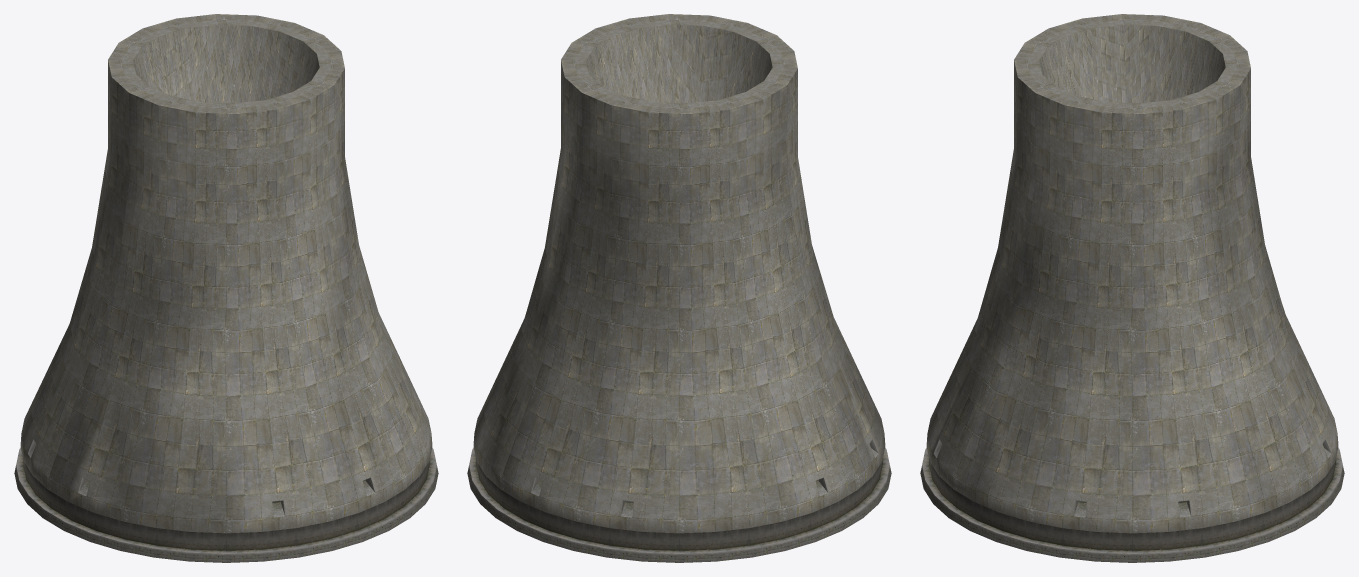
File: Building_FdcYc1.glb
3 views of the same model, side by side, from view 1: azimuth 30°, elevation 25°; view 2: azimuth 150°, elevation 25°; view 3: azimuth 270°, elevation 25° (orthographic).
Visible parts, largest first — view 1: xiutz_fdc_yc1_0; view 2: xiutz_fdc_yc1_0; view 3: xiutz_fdc_yc1_0.
Part boxes in pixels (box(x1,y1,x2,y2)): xiutz_fdc_yc1_0: box(14, 14, 438, 562); xiutz_fdc_yc1_0: box(467, 14, 891, 562); xiutz_fdc_yc1_0: box(920, 14, 1344, 562).
Bounding box in the file's own units: 46.3 × 49.29 × 46.3.
Materials: 2 (2 with a texture image).
